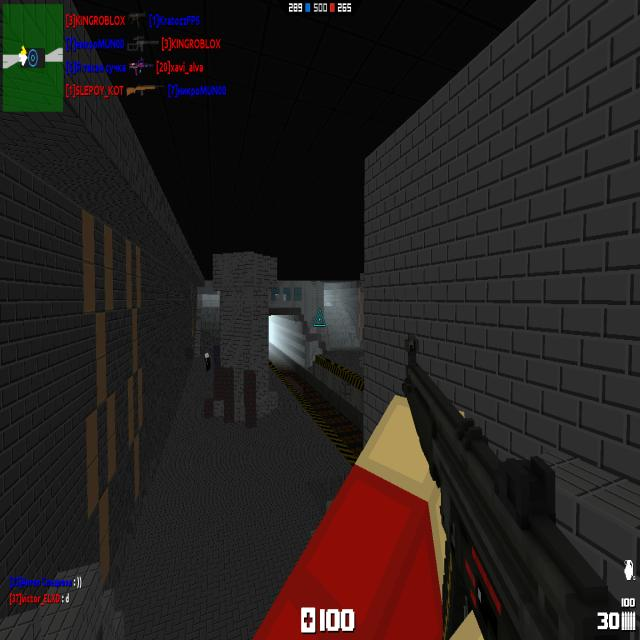enemy: (204, 352, 211, 372)
